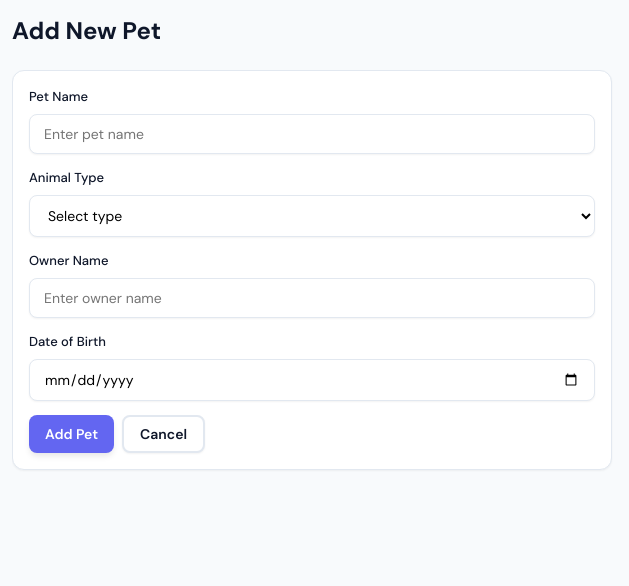
PetForm - Validation › should validate animal type selection
The width and height of the screenshot is (629, 586).
Click the button "Add Pet" at (72, 434), box [29, 415, 114, 453]
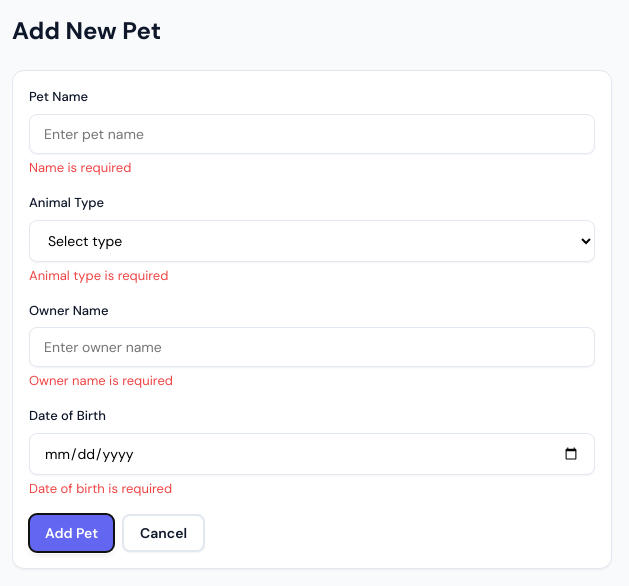
Now the text "Animal type is required" is shown, box [29, 267, 168, 284]
Select "Dog" in the dropdown with class "form-select" at (312, 241), box [29, 220, 595, 262]
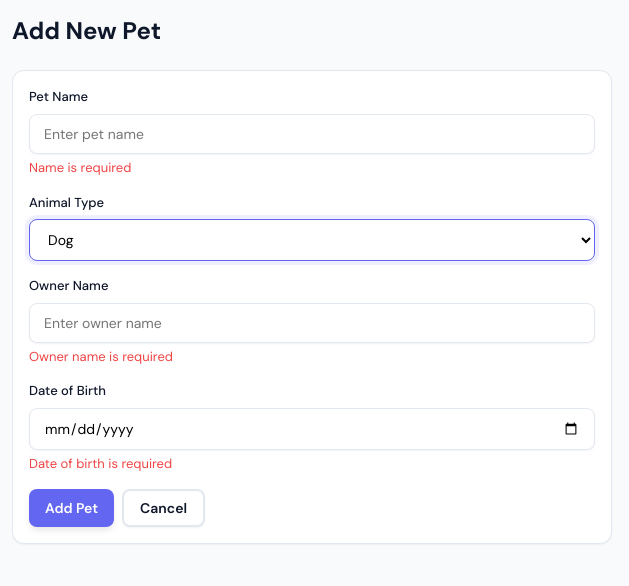
Now the text "Animal type is required" is gone
